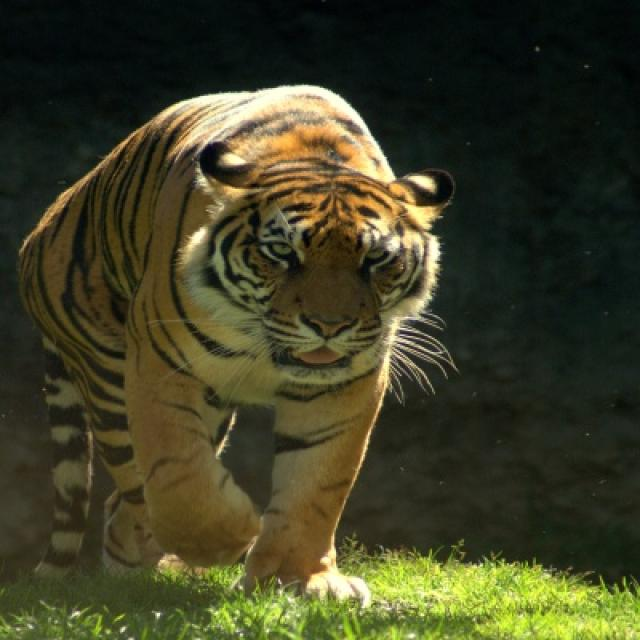Tiger: (18, 93, 458, 603)
